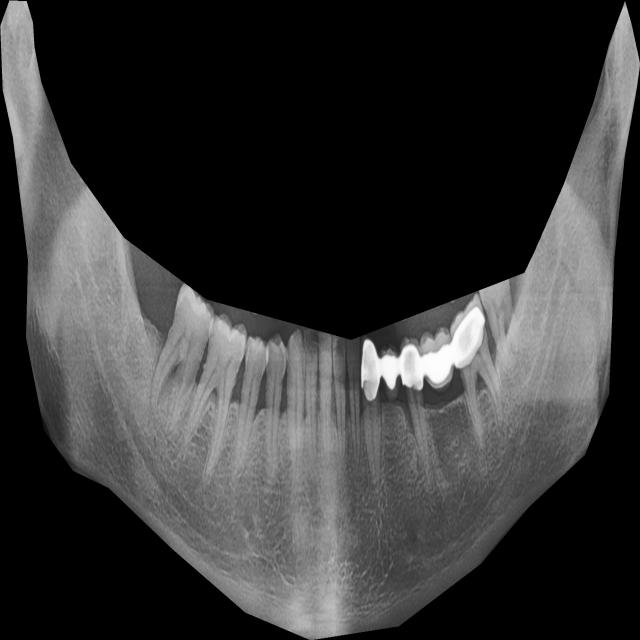mandibula: (0, 0, 640, 640)
